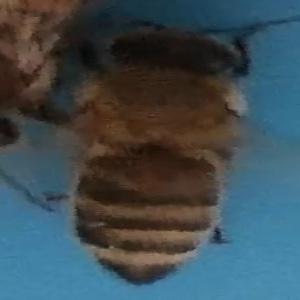bee: (78, 19, 258, 287)
